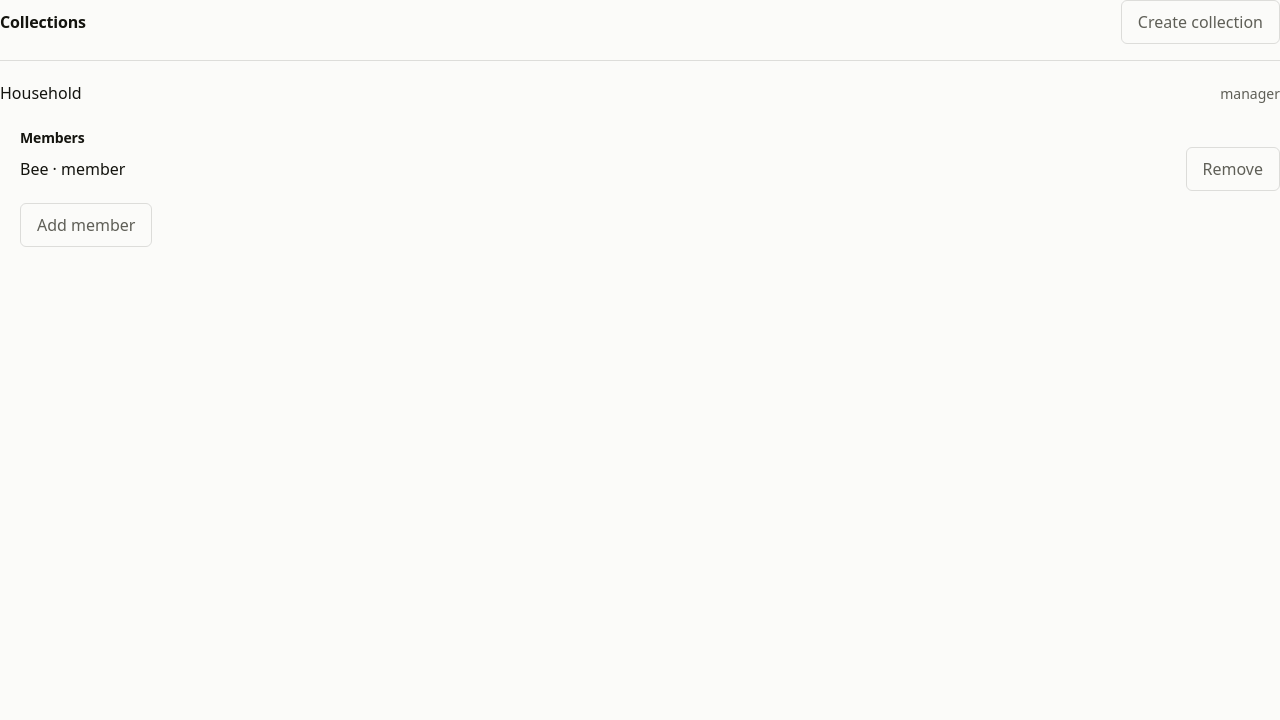
CollectionsScreen › warns that removing a member is not retroactive, before removing them
The width and height of the screenshot is (1280, 720).
Click the button "Remove": (1233, 168) top-left (1186, 146), bottom-right (1279, 190)
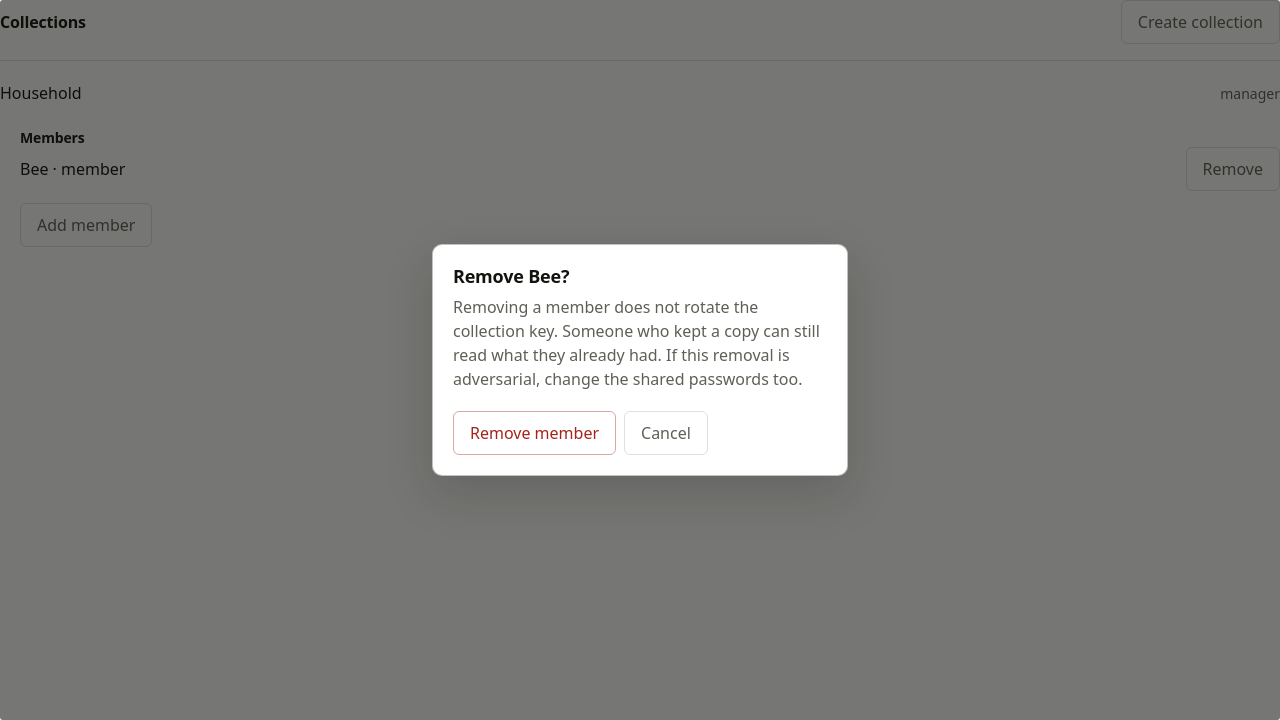
Expected: the text "Removing a member does not rotate the collection key. Someone who kept a copy can still read what they already had. If t" is shown, top-left (453, 296), bottom-right (820, 390)
